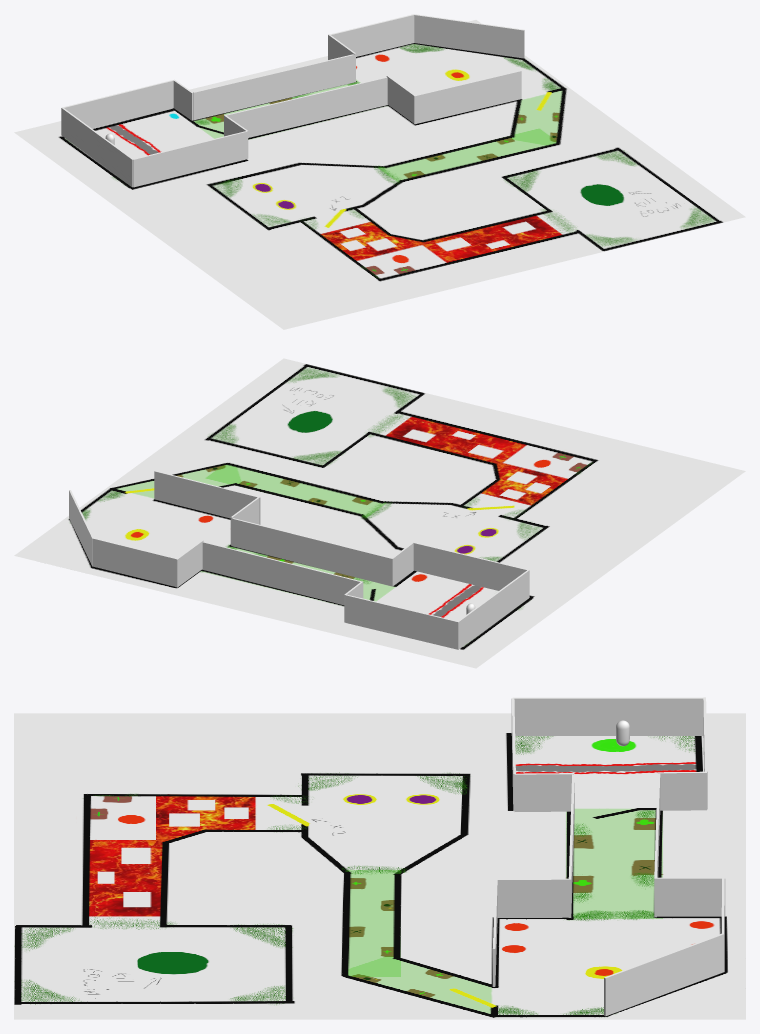
The model's file is udate2.fbx.
3 views of the same model, one above another, from view 1: azimuth 30°, elevation 25°; view 2: azimuth 150°, elevation 25°; view 3: azimuth 270°, elevation 25° (orthographic). The views are drawn at different scales.
Parts seen in each view (by area): view 1: floor, Wall__5_, Wall__6_, Wall__1_, Wall__11_, Wall__7_, Wall__2_, Wall, Wall__8_, Wall__10_, Wall__4_; view 2: floor, Wall__6_, Wall__5_, Wall__2_, Wall__1_, Wall__7_, Wall__8_, Wall, Wall__9_, Wall__11_, Wall__3_; view 3: floor, Wall, Wall__11_, Wall__10_, Wall__9_, Wall__3_, Wall__4_.
Boxes of the visible parts, box(x1,y1,x2,y2) form: floor: box(14, 20, 745, 329); Wall__5_: box(193, 54, 355, 120); Wall__6_: box(225, 77, 387, 137); Wall__1_: box(133, 131, 247, 187); Wall__11_: box(413, 14, 524, 58); Wall__7_: box(413, 70, 521, 124); Wall__2_: box(61, 80, 173, 135); Wall: box(62, 108, 133, 187); Wall__8_: box(328, 14, 414, 59); Wall__10_: box(386, 75, 415, 122); Wall__4_: box(173, 79, 193, 120); floor: box(14, 358, 745, 668); Wall__6_: box(231, 518, 392, 586); Wall__5_: box(202, 541, 360, 605); Wall__2_: box(345, 594, 458, 649); Wall__1_: box(413, 542, 528, 590); Wall__7_: box(154, 470, 260, 524); Wall__8_: box(92, 538, 178, 586); Wall: box(458, 570, 529, 648); Wall__9_: box(175, 540, 203, 587); Wall__11_: box(69, 490, 93, 566); Wall__3_: box(391, 542, 413, 585); floor: box(14, 713, 745, 1019); Wall: box(512, 697, 703, 735); Wall__11_: box(604, 933, 724, 1016); Wall__10_: box(496, 878, 571, 917); Wall__9_: box(654, 877, 725, 916); Wall__3_: box(514, 773, 573, 811); Wall__4_: box(657, 771, 706, 810).
Size of the model in its own units: 5262 by 317 by 5318.
Materials: 2 (1 with a texture image).
